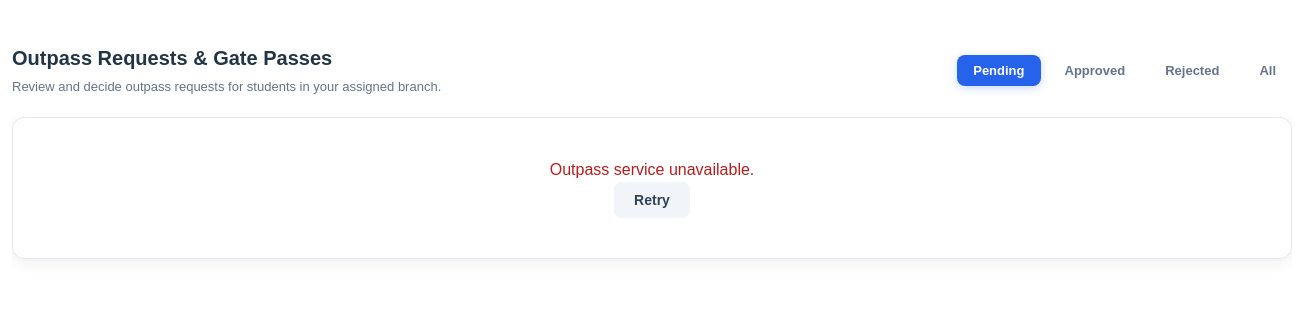
it: Faculty outpass review › shows a retry option when the outpass service is unavailable
The image size is (1304, 311).
Check: the message reads "Outpass service unavailable.", box [550,161,754,178]
Step 1. Click the button "Retry" → (652, 200), box [614,182,690,218]
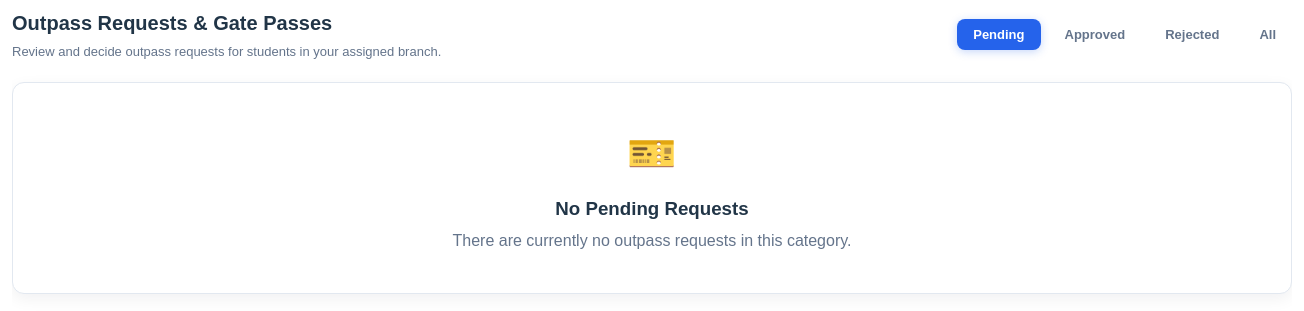
Check: the heading "No Pending Requests" is shown, box [555,198,749,219]
